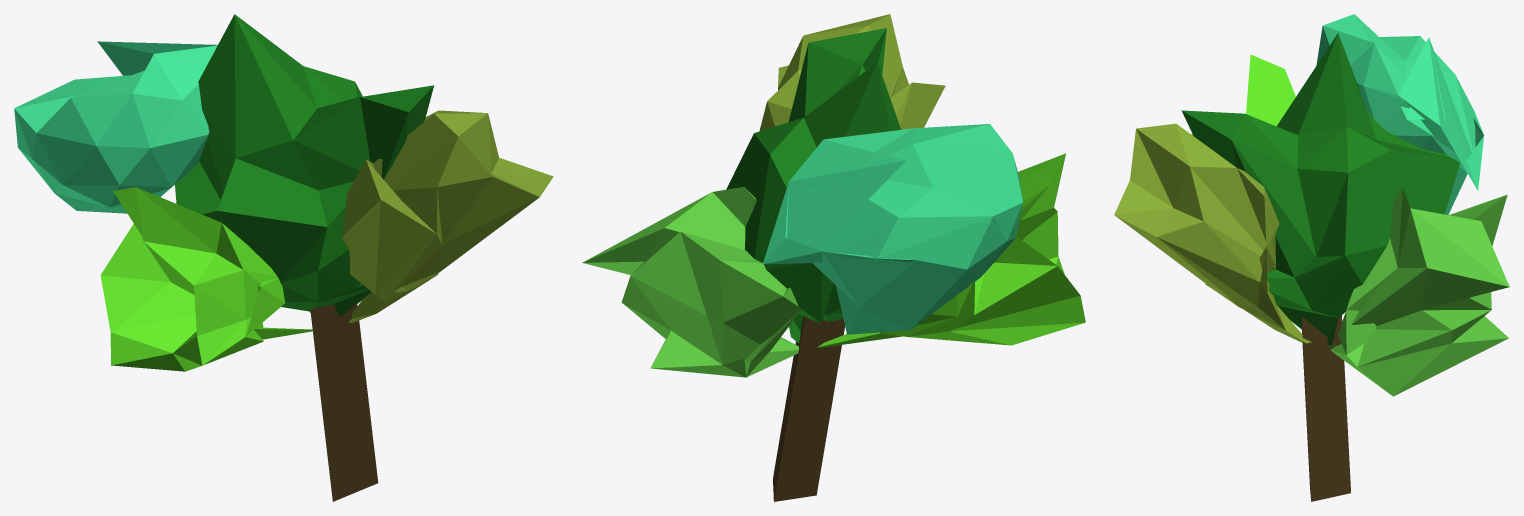
The model's file is WEIRDTREEA.fbx.
3 renders of one model, left to right at view 1: azimuth 30°, elevation 25°; view 2: azimuth 150°, elevation 25°; view 3: azimuth 270°, elevation 25°, orthographic. The views are drawn at different scales.
Visible parts, largest first — view 1: Icosphere.007; view 2: Icosphere.007; view 3: Icosphere.007.
Boxes of the visible parts, x1,y1,x2,y2 form: Icosphere.007: [14, 14, 553, 501]; Icosphere.007: [582, 14, 1085, 501]; Icosphere.007: [1114, 14, 1509, 501].
Bounding box in the file's own units: 285 × 344 × 292.
